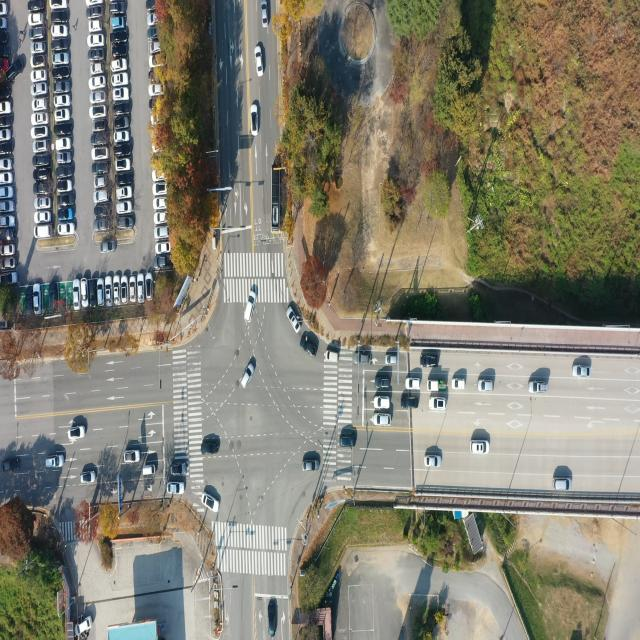car: (243, 288, 257, 330), (241, 358, 256, 388), (303, 332, 320, 358), (5, 58, 24, 81), (286, 308, 300, 334), (203, 493, 221, 513), (268, 600, 278, 636), (74, 616, 92, 636), (254, 46, 264, 78), (250, 105, 259, 139), (200, 489, 216, 508), (470, 441, 489, 456), (90, 147, 110, 161), (32, 226, 52, 240), (48, 282, 58, 310), (419, 354, 439, 368), (572, 363, 590, 378), (90, 131, 108, 146), (56, 164, 74, 179), (57, 192, 75, 207), (202, 442, 221, 456), (33, 154, 52, 168), (528, 382, 548, 395), (88, 75, 105, 90), (111, 44, 128, 59), (554, 479, 572, 493), (54, 122, 72, 136), (153, 254, 171, 268), (90, 104, 106, 119), (154, 210, 169, 226), (429, 396, 446, 410), (112, 88, 129, 102), (56, 78, 73, 92), (0, 228, 17, 242), (115, 142, 132, 156), (171, 461, 188, 475), (34, 198, 52, 211), (68, 426, 86, 439), (59, 221, 77, 234), (73, 280, 81, 309), (374, 415, 393, 427), (56, 94, 72, 108), (56, 108, 72, 122), (0, 200, 16, 214), (110, 14, 126, 28), (58, 178, 74, 192), (59, 207, 75, 221), (52, 38, 68, 52), (34, 181, 50, 195), (128, 275, 136, 303), (145, 272, 153, 300), (304, 459, 321, 472), (45, 455, 62, 468), (111, 30, 128, 43), (1, 272, 18, 285), (116, 172, 133, 185), (116, 216, 134, 228), (33, 168, 51, 180), (92, 162, 110, 174), (4, 458, 19, 472), (81, 278, 88, 308), (376, 395, 392, 408), (425, 455, 441, 468), (479, 380, 495, 393), (0, 215, 16, 228), (0, 100, 13, 116), (90, 48, 106, 61), (58, 150, 74, 163), (0, 244, 16, 257), (113, 72, 129, 85), (90, 34, 107, 46), (167, 483, 184, 495), (93, 218, 110, 230), (114, 102, 131, 114), (105, 277, 112, 306), (120, 276, 127, 305), (263, 0, 270, 28), (150, 53, 164, 67), (115, 159, 130, 172), (407, 378, 422, 391), (32, 69, 48, 81), (55, 54, 71, 66), (54, 25, 70, 37), (58, 138, 74, 150), (112, 60, 128, 72), (33, 84, 49, 96), (125, 451, 141, 463), (89, 90, 105, 102), (114, 131, 130, 143), (0, 257, 16, 269), (53, 67, 69, 79), (152, 168, 164, 184), (0, 159, 14, 172), (34, 126, 48, 139), (34, 111, 48, 124), (0, 128, 13, 142), (0, 185, 14, 198), (96, 189, 110, 202), (156, 225, 170, 238), (26, 286, 33, 312), (341, 438, 356, 450), (116, 186, 131, 198), (117, 202, 132, 214), (355, 353, 370, 365), (110, 2, 125, 14), (403, 396, 421, 406), (81, 471, 96, 483), (34, 284, 40, 314), (114, 275, 120, 305), (376, 379, 392, 390), (54, 10, 70, 21), (28, 0, 44, 11), (325, 350, 338, 363), (155, 182, 168, 195), (148, 42, 161, 55), (90, 5, 104, 17), (158, 242, 172, 254), (33, 55, 47, 67), (32, 28, 46, 40), (33, 99, 47, 111), (98, 279, 104, 307), (138, 276, 144, 304), (0, 43, 12, 57), (90, 280, 96, 308), (142, 464, 156, 476), (452, 379, 467, 390), (113, 115, 128, 126), (0, 84, 11, 99), (34, 213, 50, 223), (0, 172, 13, 184), (31, 12, 44, 24), (0, 143, 12, 156), (94, 193, 108, 204), (0, 1, 10, 16), (148, 84, 163, 94), (96, 176, 108, 188), (52, 0, 70, 8), (156, 198, 168, 210), (0, 115, 12, 127), (147, 0, 159, 12), (147, 26, 159, 38), (89, 20, 102, 31), (32, 42, 46, 52), (96, 207, 110, 217), (102, 242, 116, 252), (34, 142, 48, 152), (90, 65, 104, 75), (96, 120, 109, 130), (0, 31, 9, 44), (147, 13, 157, 24), (384, 356, 395, 365), (0, 56, 7, 70), (89, 0, 105, 5)
large_bus: (270, 160, 281, 234)
small_truck: (428, 378, 447, 393)
